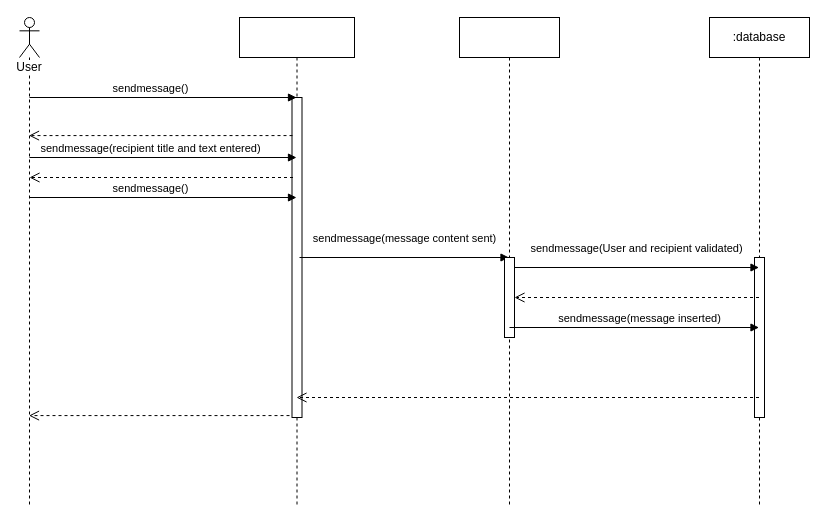
The diagram is 827 pixels wide and 525 high, and some of its shapes have lost their labels. Here are the shapes that lost their labels. From the top down, the box of each, then its label:
(238, 16, 354, 508): :sendmessage.php
(458, 16, 560, 508): :send.php
